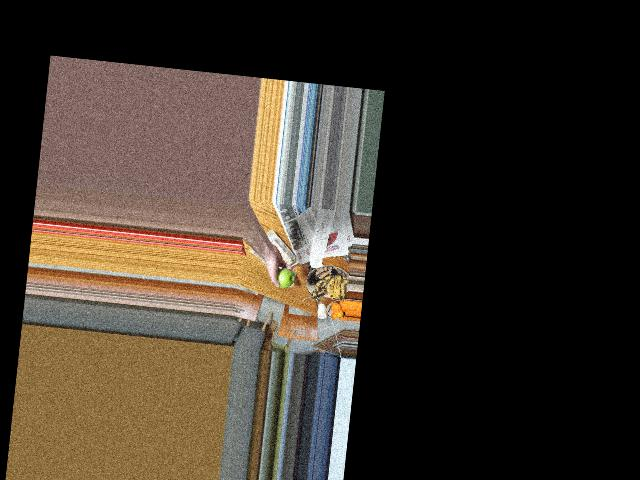apple: (270, 264, 295, 291)
